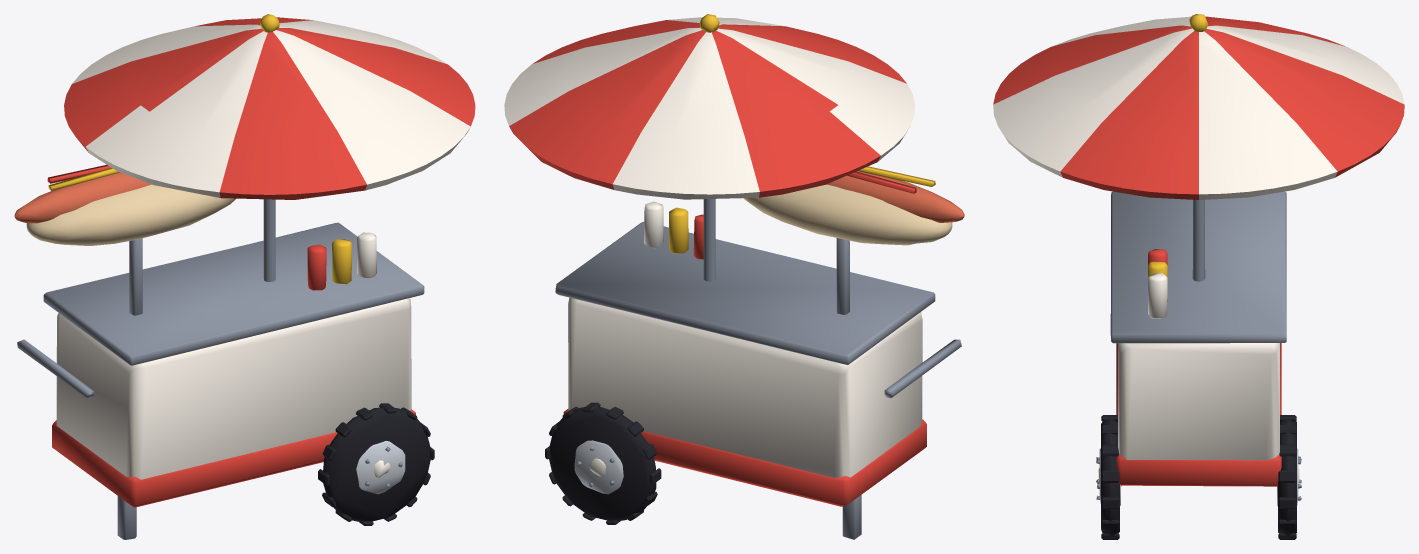
File: hotdog_cart.glb
3 views of the same model, side by side, from view 1: azimuth 30°, elevation 25°; view 2: azimuth 150°, elevation 25°; view 3: azimuth 270°, elevation 25° (orthographic).
Parts seen in each view (by area): view 1: hotdog_cart; view 2: hotdog_cart; view 3: hotdog_cart.
Boxes of the visible parts, box(x1,y1,x2,y2) form: hotdog_cart: box(14, 14, 475, 539); hotdog_cart: box(504, 14, 964, 539); hotdog_cart: box(993, 14, 1404, 539).
Bounding box in the file's own units: 2.43 × 2.62 × 2.
Materials: 1 (1 with a texture image).
